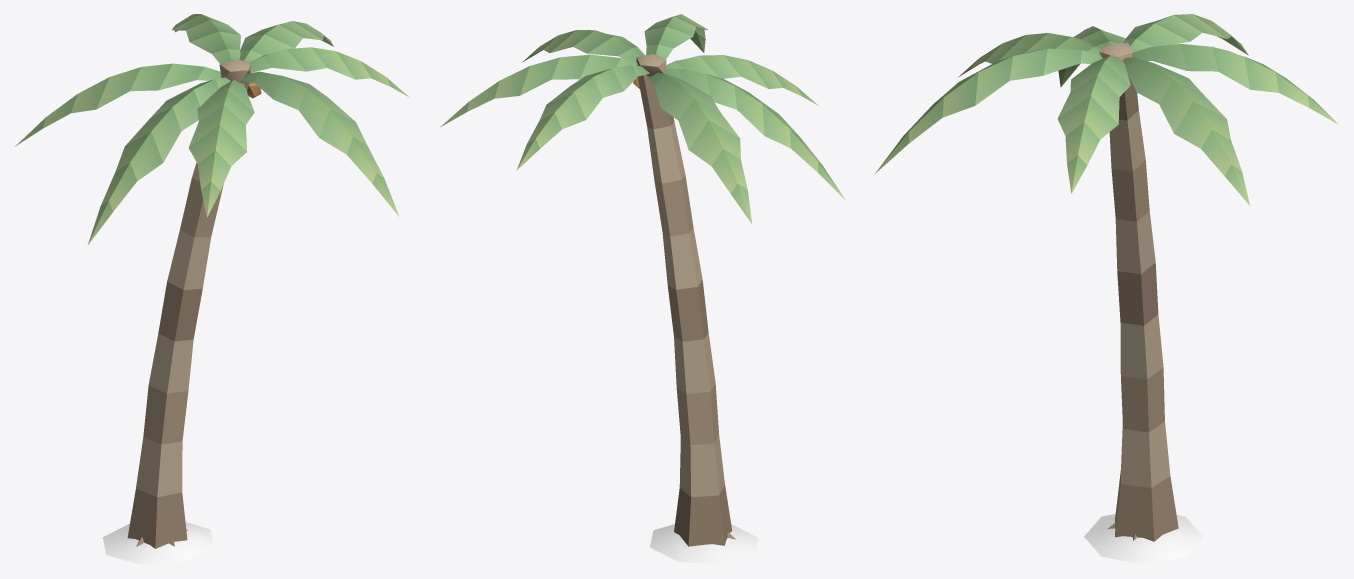
Rendered from palmera_a_ligero.glb.
3 renders of one model, left to right at view 1: azimuth 30°, elevation 25°; view 2: azimuth 150°, elevation 25°; view 3: azimuth 270°, elevation 25°, orthographic. The views are drawn at different scales.
Visible parts, largest first — view 1: palmera_a_hojas, palmera_a, palmera_a_arena; view 2: palmera_a_hojas, palmera_a, palmera_a_arena; view 3: palmera_a_hojas, palmera_a, palmera_a_arena.
Boxes of the visible parts, x1,y1,x2,y2 form: palmera_a_hojas: (15, 14, 409, 245); palmera_a: (127, 59, 261, 548); palmera_a_arena: (102, 522, 213, 564); palmera_a_hojas: (440, 14, 845, 224); palmera_a: (633, 53, 735, 546); palmera_a_arena: (650, 524, 758, 564); palmera_a_hojas: (874, 14, 1338, 205); palmera_a: (1099, 42, 1178, 541); palmera_a_arena: (1084, 514, 1202, 564).
Bounding box in the file's own units: 5.74 × 8.01 × 6.24.
